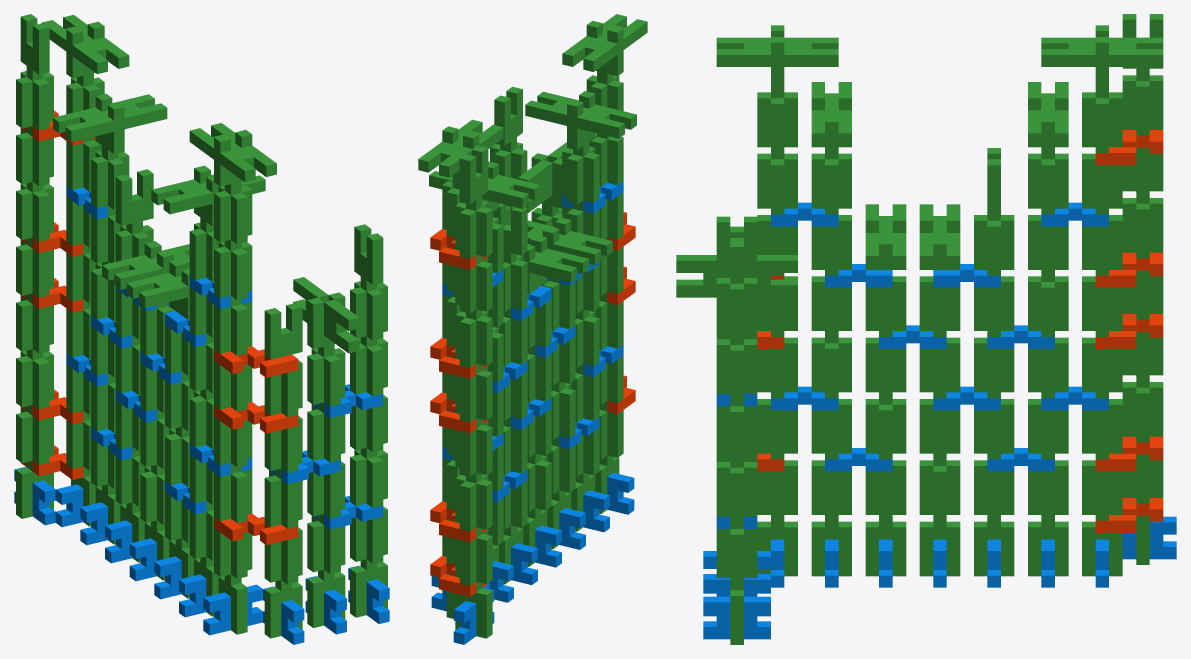
3 views of the same model, side by side, from view 1: azimuth 30°, elevation 25°; view 2: azimuth 150°, elevation 25°; view 3: azimuth 270°, elevation 25° (orthographic). The views are drawn at different scales.
Parts seen in each view (by area): view 1: H_SIM (×77), X_SIM (×24), L_SIM (×7); view 2: H_SIM (×59), X_SIM (×16), L_SIM (×8); view 3: H_SIM (×67), X_SIM (×14), L_SIM (×5).
Part boxes in pixels (box(x1,y1,x2,y2)): H_SIM (×77): box(16, 14, 387, 638); X_SIM (×24): box(14, 186, 389, 644); L_SIM (×7): box(20, 222, 298, 545); H_SIM (×59): box(418, 14, 647, 638); X_SIM (×16): box(431, 181, 634, 644); L_SIM (×8): box(430, 212, 635, 596); H_SIM (×67): box(676, 14, 1163, 644); X_SIM (×14): box(703, 202, 1176, 639); L_SIM (×5): box(1095, 130, 1163, 532).
Size of the model in its own units: 2.21 by 5.72 by 4.81.
